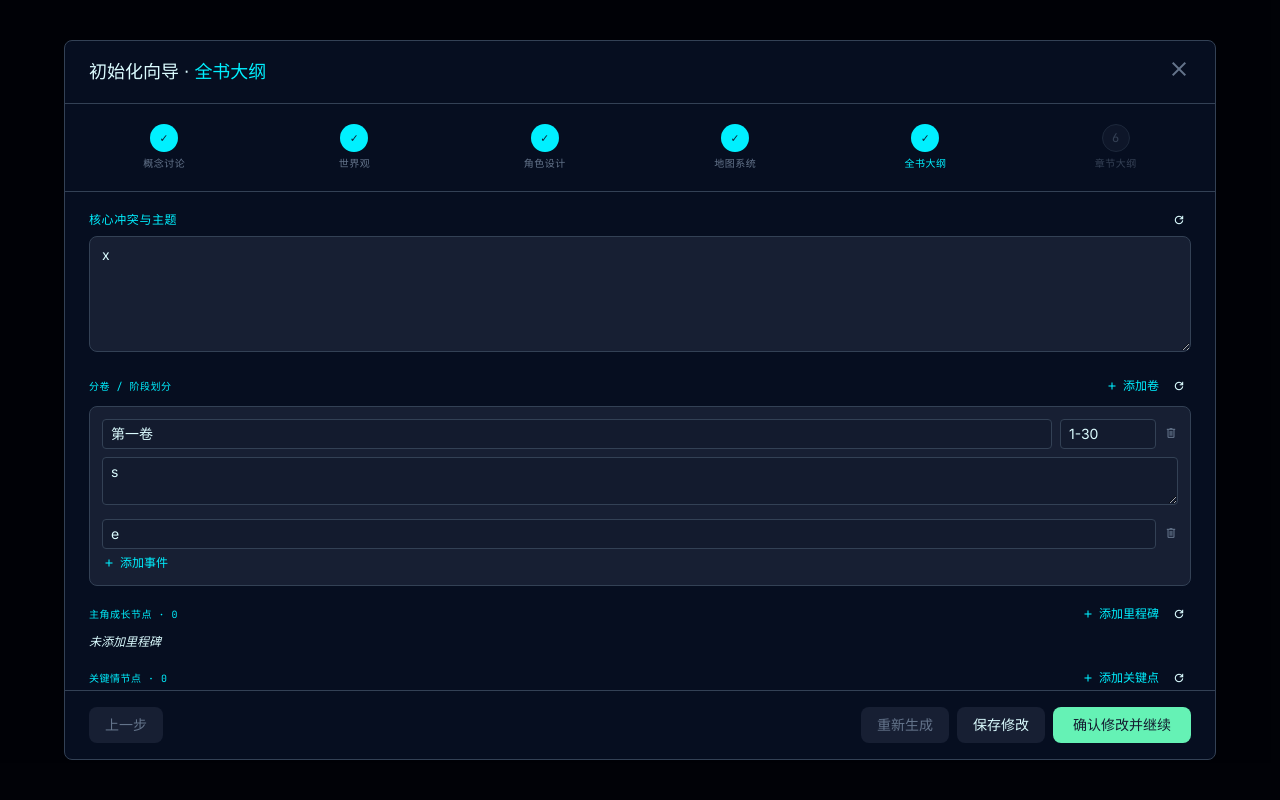
Test: OutlineStep › adding a volume appends an empty card with empty inputs
expect the number of elements with test id "outline-volume" is 1: met, box [89,406,1191,586]
Click the button with test id "add-volume-btn".
click(1132, 386)  # box [1105,376,1159,396]
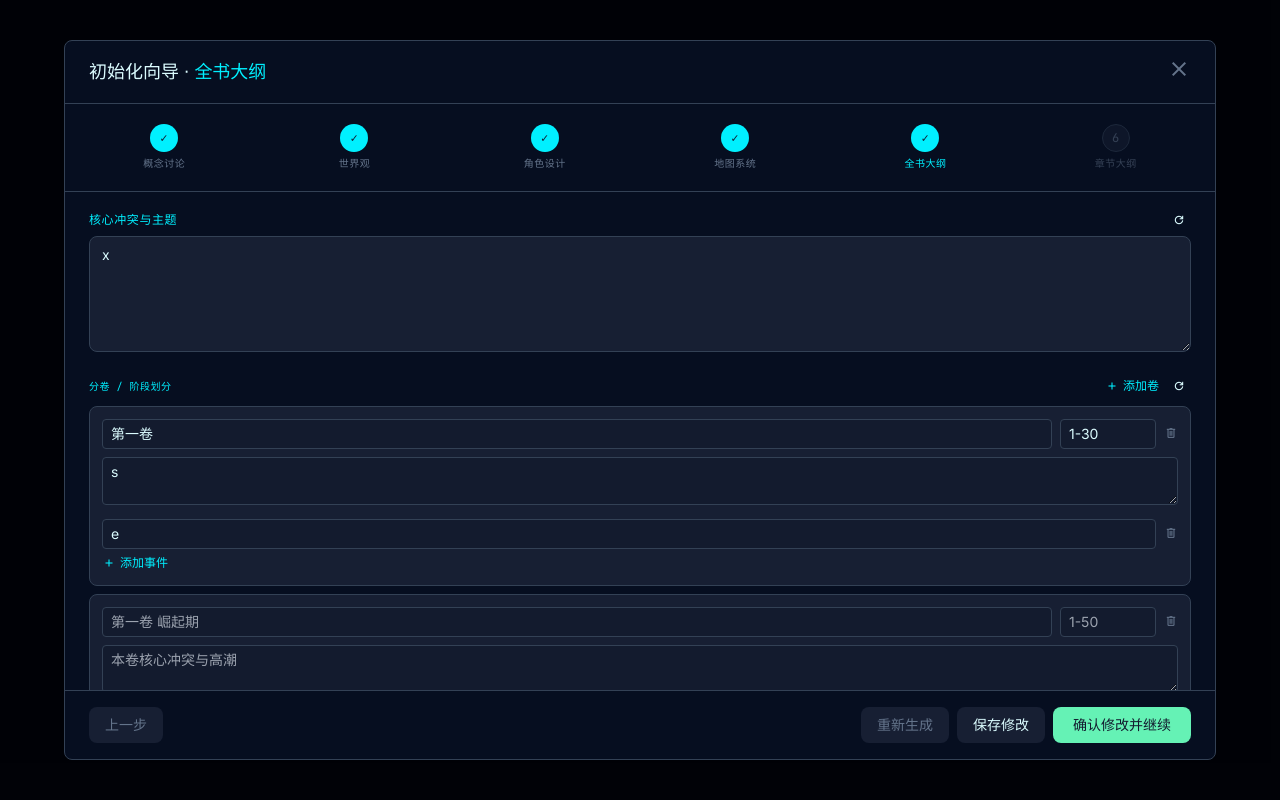
expect the number of elements with test id "outline-volume" is 2: met
expect the field with test id "volume-name-1" is empty: met, box [102,607,1052,637]
